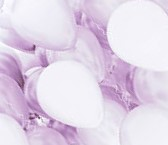Balloon: (38, 60, 102, 131), (107, 3, 168, 67), (11, 1, 79, 53), (119, 104, 168, 145)
